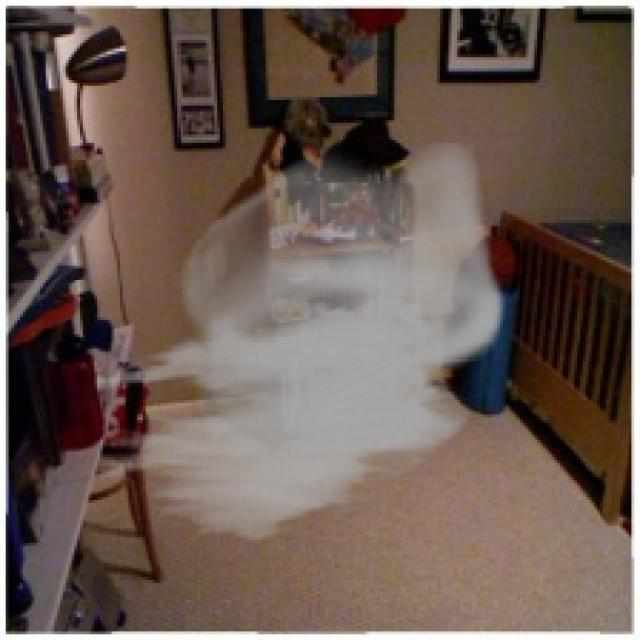smoke: (94, 140, 506, 546)
